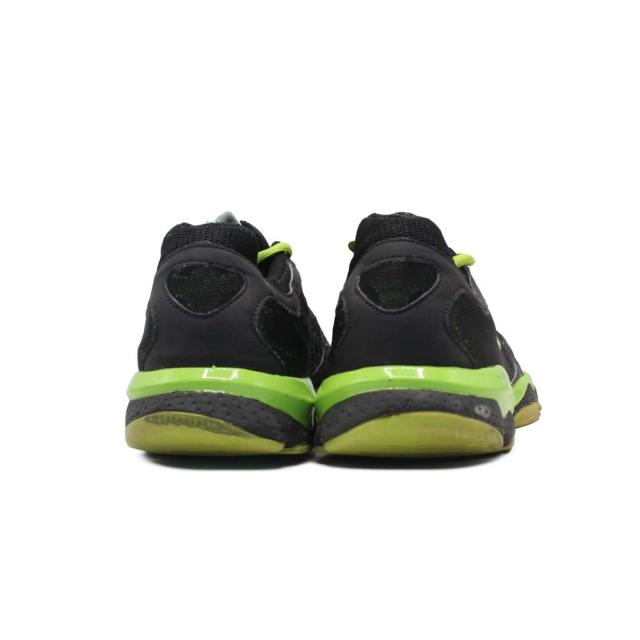heel: (144, 214, 302, 376), (332, 210, 489, 370)
midsole: (120, 372, 546, 466)
